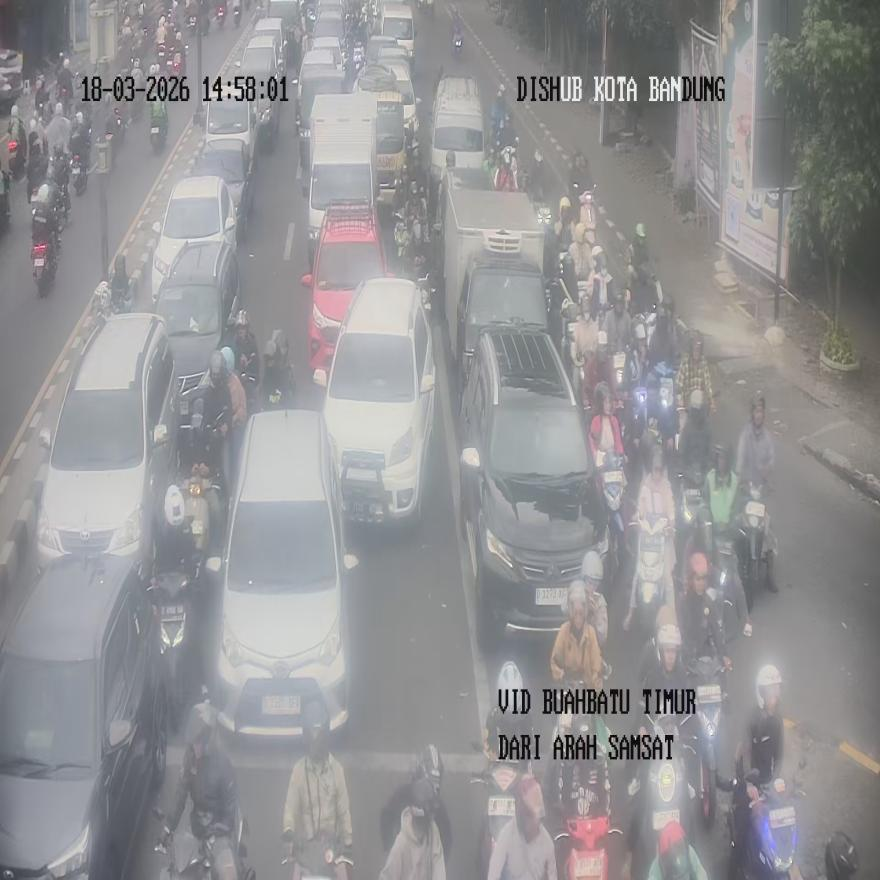Mobil: (0, 552, 168, 877), (206, 408, 358, 738), (459, 324, 608, 646), (34, 312, 176, 575), (313, 274, 435, 524), (442, 175, 550, 404), (302, 198, 388, 381), (155, 237, 240, 419), (306, 90, 379, 267), (150, 175, 236, 311), (428, 73, 485, 196)
Motor: (470, 662, 534, 877), (716, 766, 802, 880), (558, 720, 612, 880), (685, 654, 729, 827), (153, 806, 253, 879), (471, 743, 521, 878), (627, 514, 672, 635), (736, 484, 774, 612), (676, 469, 713, 589), (594, 448, 628, 563), (644, 362, 678, 450), (284, 841, 354, 880), (263, 330, 294, 408), (31, 214, 58, 297), (150, 101, 168, 151), (69, 153, 86, 196), (451, 10, 463, 55)
